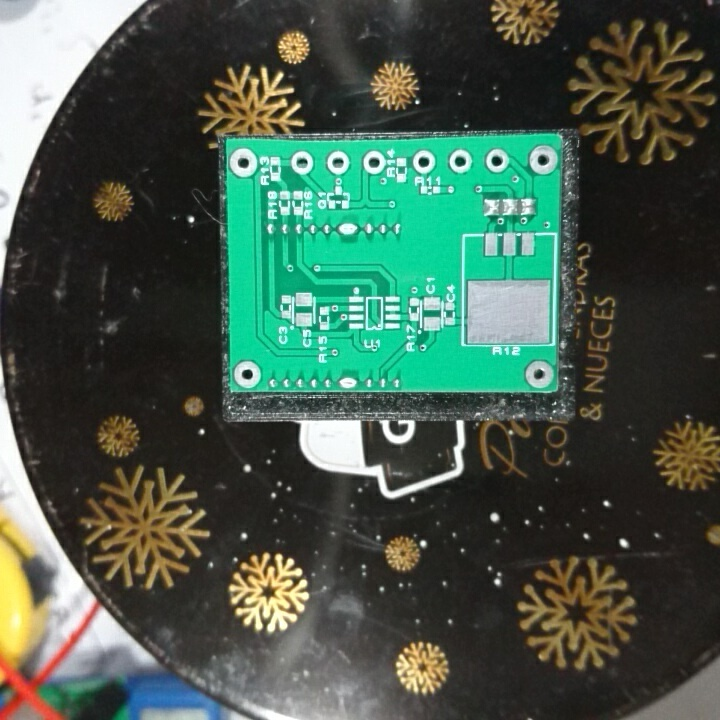F: (231, 356, 264, 390), (227, 143, 257, 180), (527, 144, 559, 177), (524, 359, 556, 389), (446, 146, 475, 178), (483, 146, 510, 176), (410, 148, 436, 176), (362, 148, 386, 178), (290, 149, 315, 175), (326, 149, 350, 176)
P: (336, 220, 362, 243), (339, 372, 359, 393)
